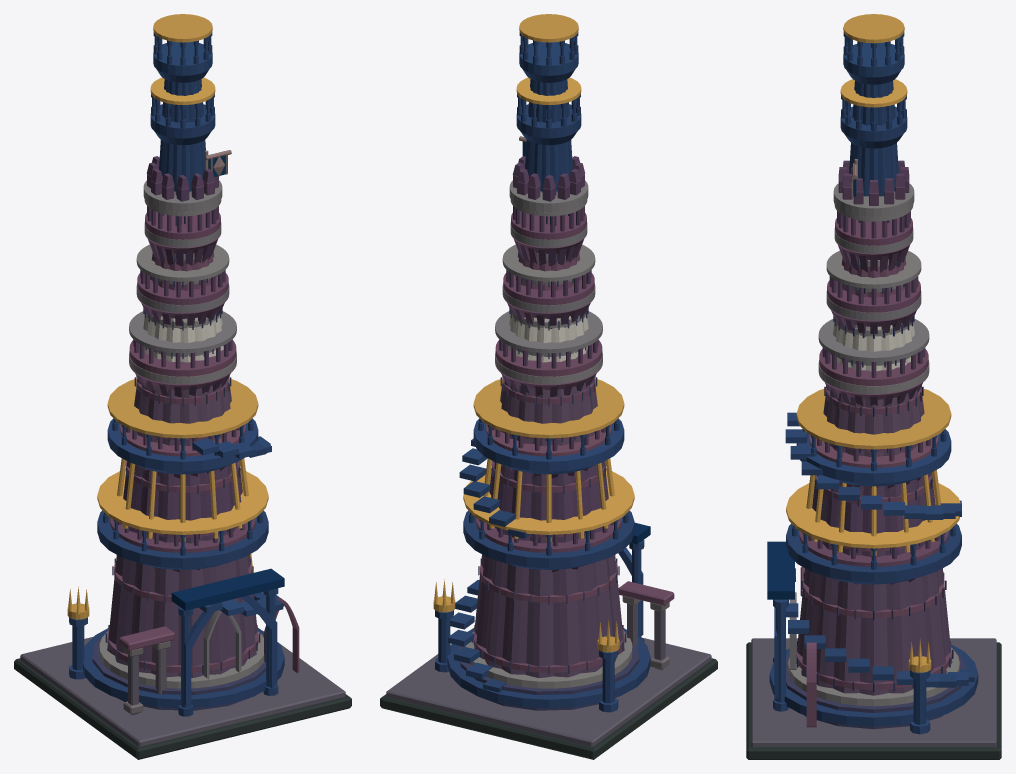
3 renders of one model, left to right at view 1: azimuth 30°, elevation 25°; view 2: azimuth 150°, elevation 25°; view 3: azimuth 270°, elevation 25°, orthographic. The views are drawn at different scales.
Visible parts, largest first — view 1: archer_tower_L10_0, archer_tower_L10_1; view 2: archer_tower_L10_0, archer_tower_L10_1; view 3: archer_tower_L10_0, archer_tower_L10_1.
Part boxes in pixels (x1,y1,x2,y2): archer_tower_L10_0: [14, 32, 351, 759]; archer_tower_L10_1: [67, 14, 268, 619]; archer_tower_L10_0: [380, 32, 717, 759]; archer_tower_L10_1: [433, 14, 634, 652]; archer_tower_L10_0: [746, 32, 1001, 759]; archer_tower_L10_1: [786, 14, 960, 672].
Bounding box in the file's own units: 3.6 × 10.58 × 3.6.
